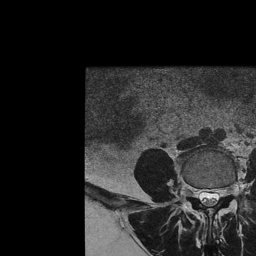CCS_normal: (204, 180, 211, 214)
LFS_normal: (220, 177, 228, 204)
LLS_normal: (211, 179, 220, 210)
RFS_normal: (188, 177, 196, 205)
RLS_normal: (196, 180, 204, 208)
